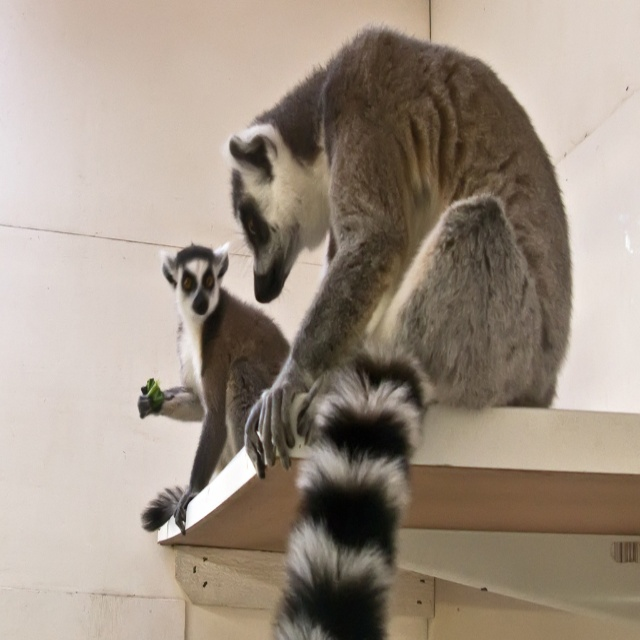Raccoon: (220, 18, 578, 640), (137, 241, 291, 535)
